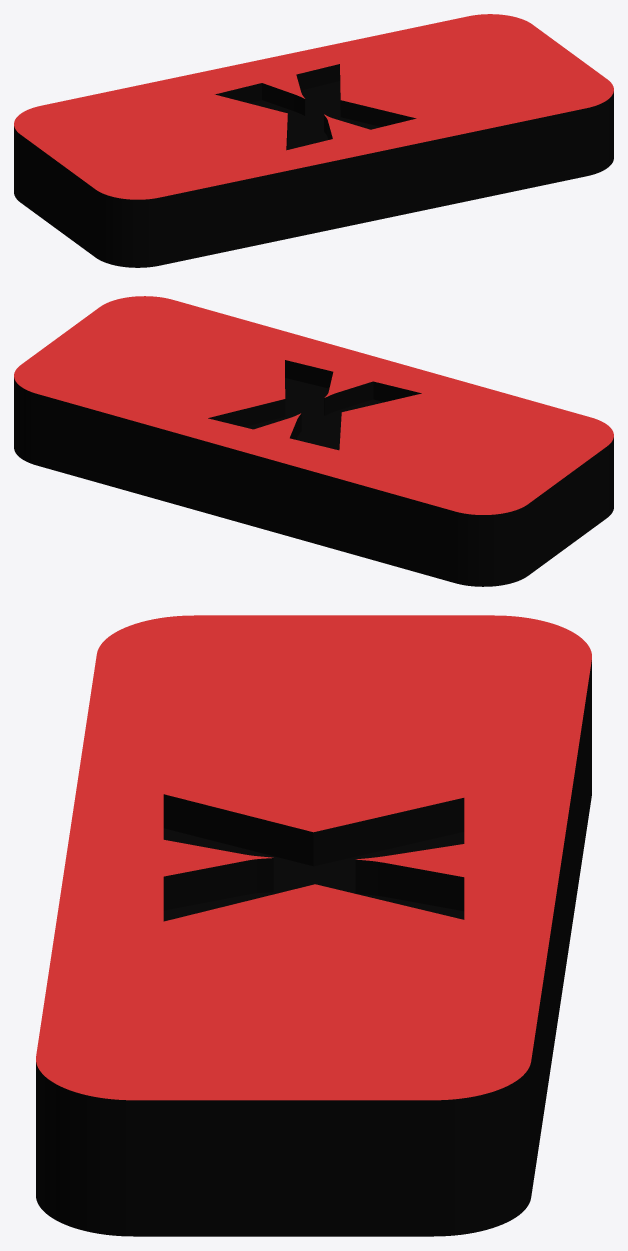
Rendered from touche_rouge.fbx.
3 renders of one model, top to bottom at view 1: azimuth 30°, elevation 25°; view 2: azimuth 150°, elevation 25°; view 3: azimuth 270°, elevation 25°, orthographic. The views are drawn at different scales.
Visible parts, largest first — view 1: imagetostl_mesh0; view 2: imagetostl_mesh0; view 3: imagetostl_mesh0.
Boxes of the visible parts, bbox=[...] form: imagetostl_mesh0: bbox=[14, 14, 613, 267]; imagetostl_mesh0: bbox=[14, 296, 613, 586]; imagetostl_mesh0: bbox=[36, 615, 591, 1236].
Bounding box in the file's own units: 1527 × 200 × 740.
